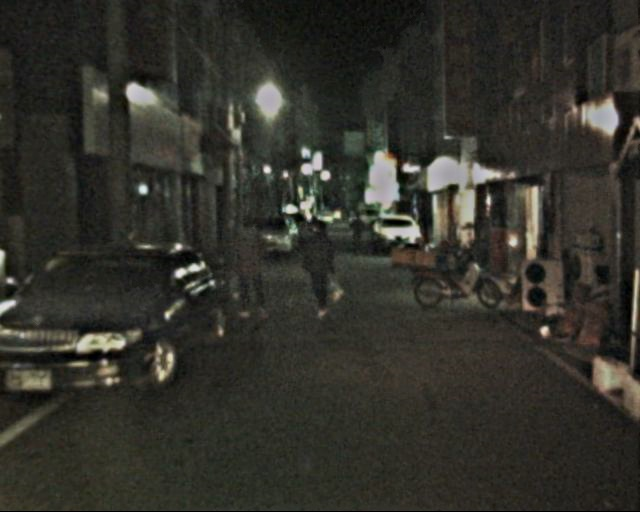person: (230, 216, 272, 322), (297, 219, 339, 321), (349, 212, 366, 251)
